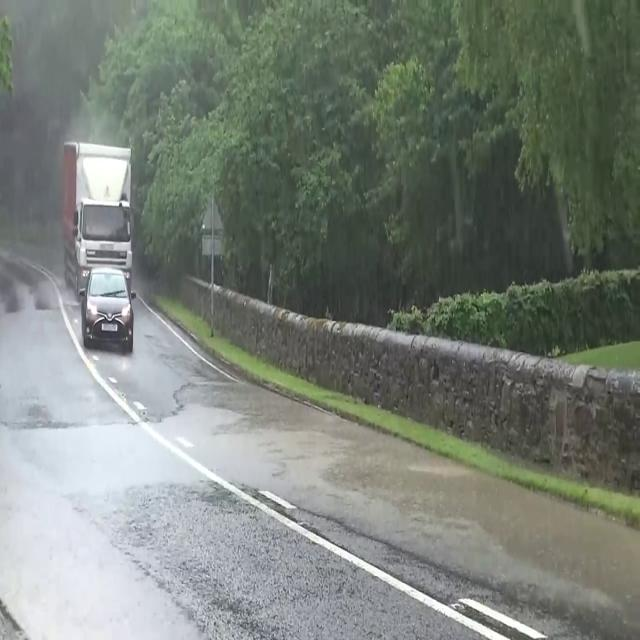license-plate-annotation: (100, 322, 119, 332)
